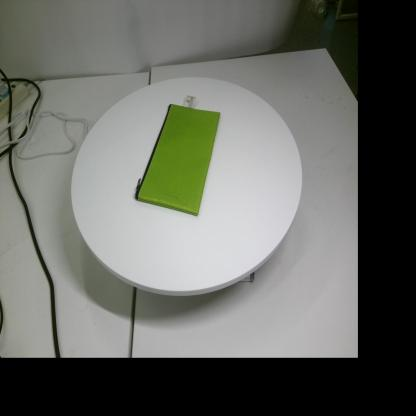Stationery: (135, 95, 221, 216)
